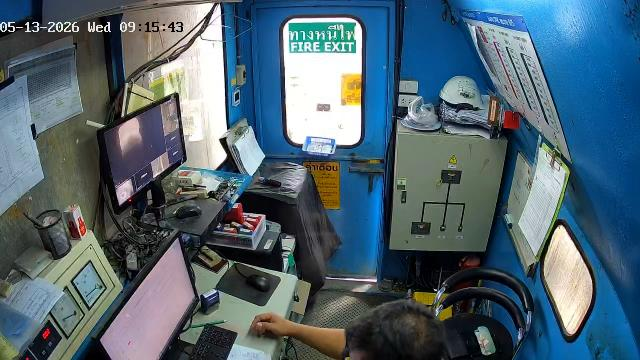Head: (343, 300, 444, 359)
People: (251, 300, 445, 359)
Phone: (441, 327, 469, 360), (459, 329, 482, 356)
